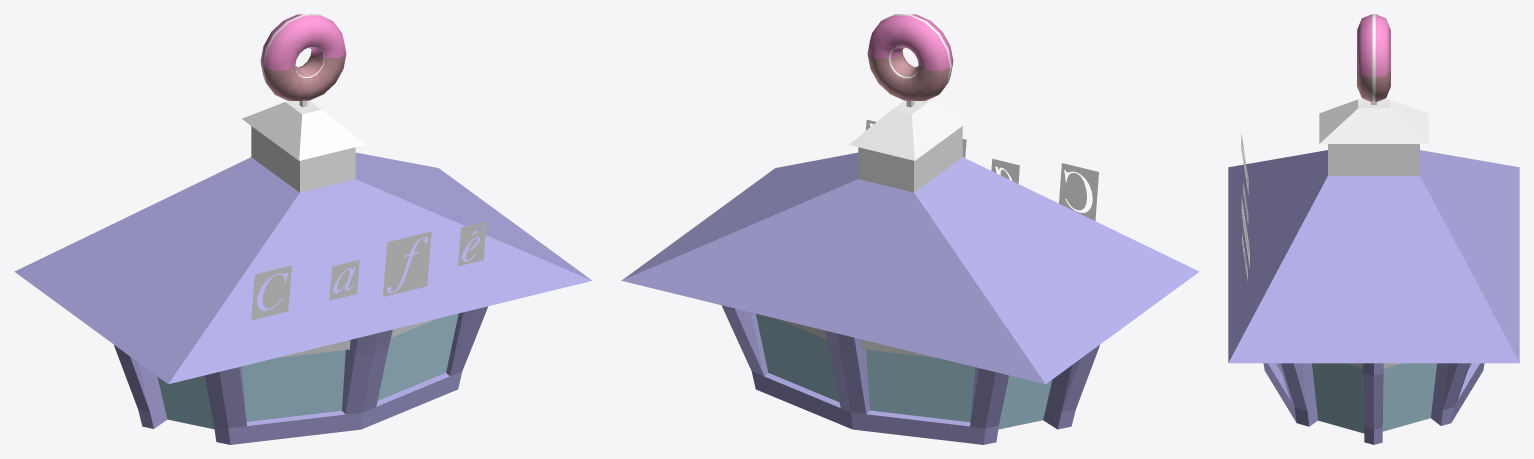
Rendered from SlamminDonuts.obj.
3 renders of one model, left to right at view 1: azimuth 30°, elevation 25°; view 2: azimuth 150°, elevation 25°; view 3: azimuth 270°, elevation 25°, orthographic. The views are drawn at different scales.
Visible parts, largest first — view 1: Cube, Text.001; view 2: Cube, Text.001; view 3: Cube, Text.001.
Part boxes in pixels (box(x1,y1,x2,y2)): Cube: box(14, 14, 592, 444); Text.001: box(251, 221, 486, 320); Cube: box(621, 14, 1199, 444); Text.001: box(865, 119, 1098, 220); Cube: box(1228, 14, 1519, 444); Text.001: box(1241, 133, 1249, 281).
Size of the model in its own units: 96.5 by 80.87 by 60.62.
